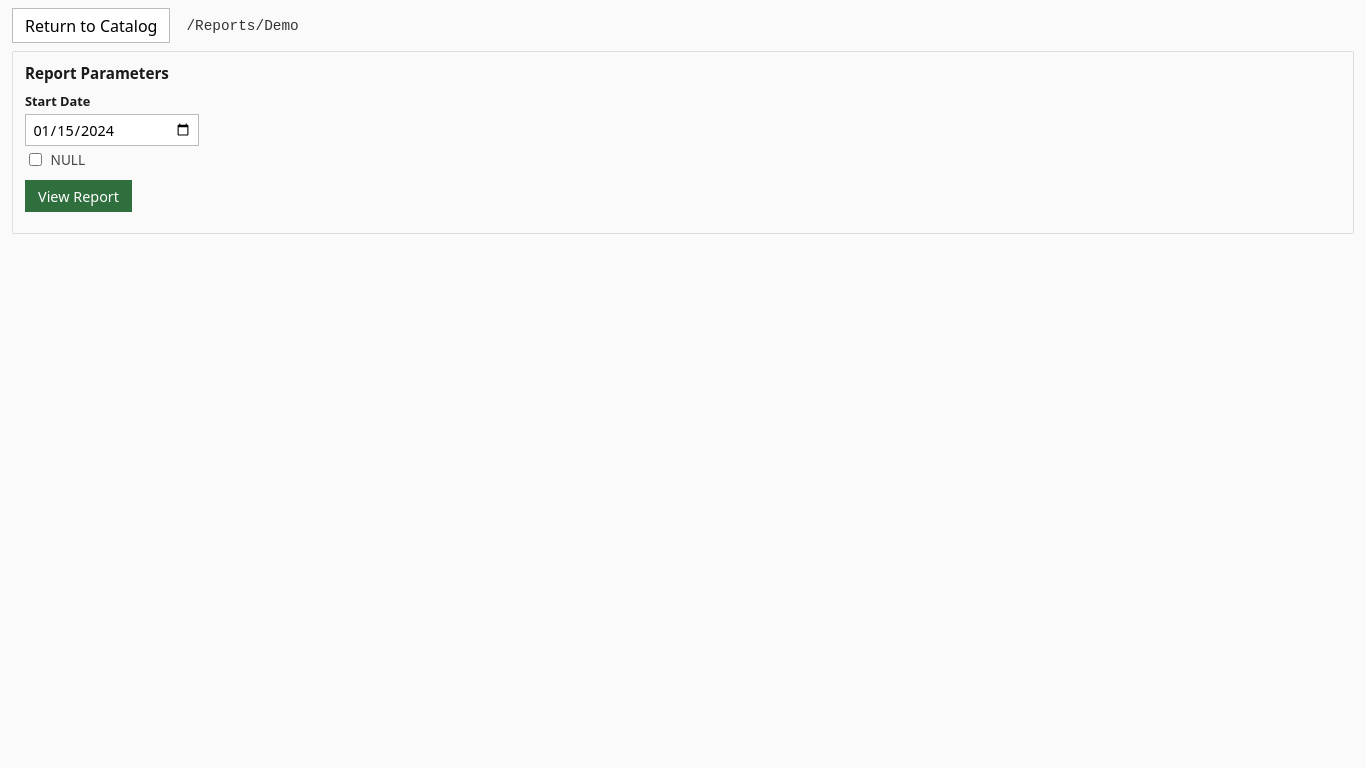
Test: API Availability mid-session › shows API unavailable with Retry, keeps report HTML, and leaves status visible in report mode
This screenshot has width=1366, height=768.
Step 1. Click the button "View Report" → (78,196), box [25, 180, 132, 212]
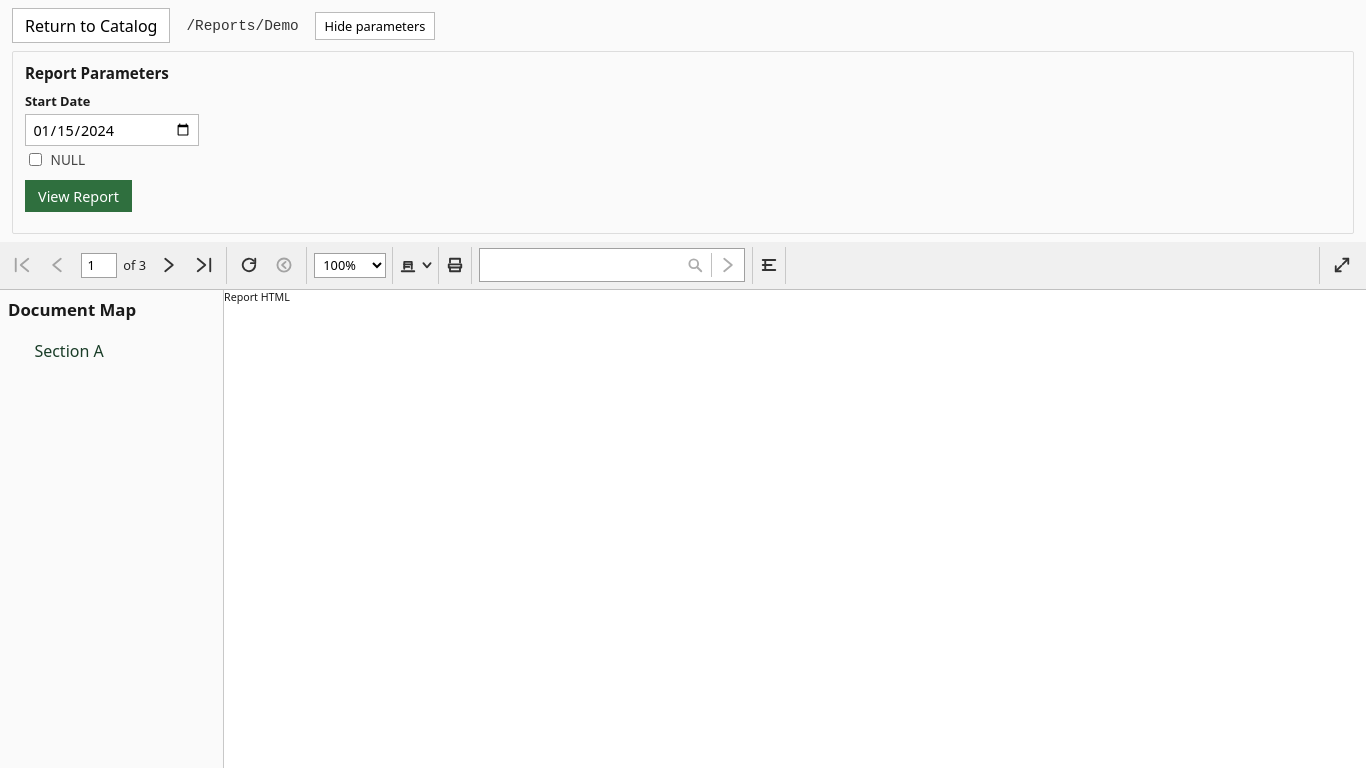
Expected: the element named "Report Viewer toolbar" is shown, [0, 242, 1365, 290]
Expected: the element with class "report-html" reads "Report HTML", [224, 290, 290, 304]
Step 2. Click the button "Section A" → (122,351), box [28, 334, 215, 368]
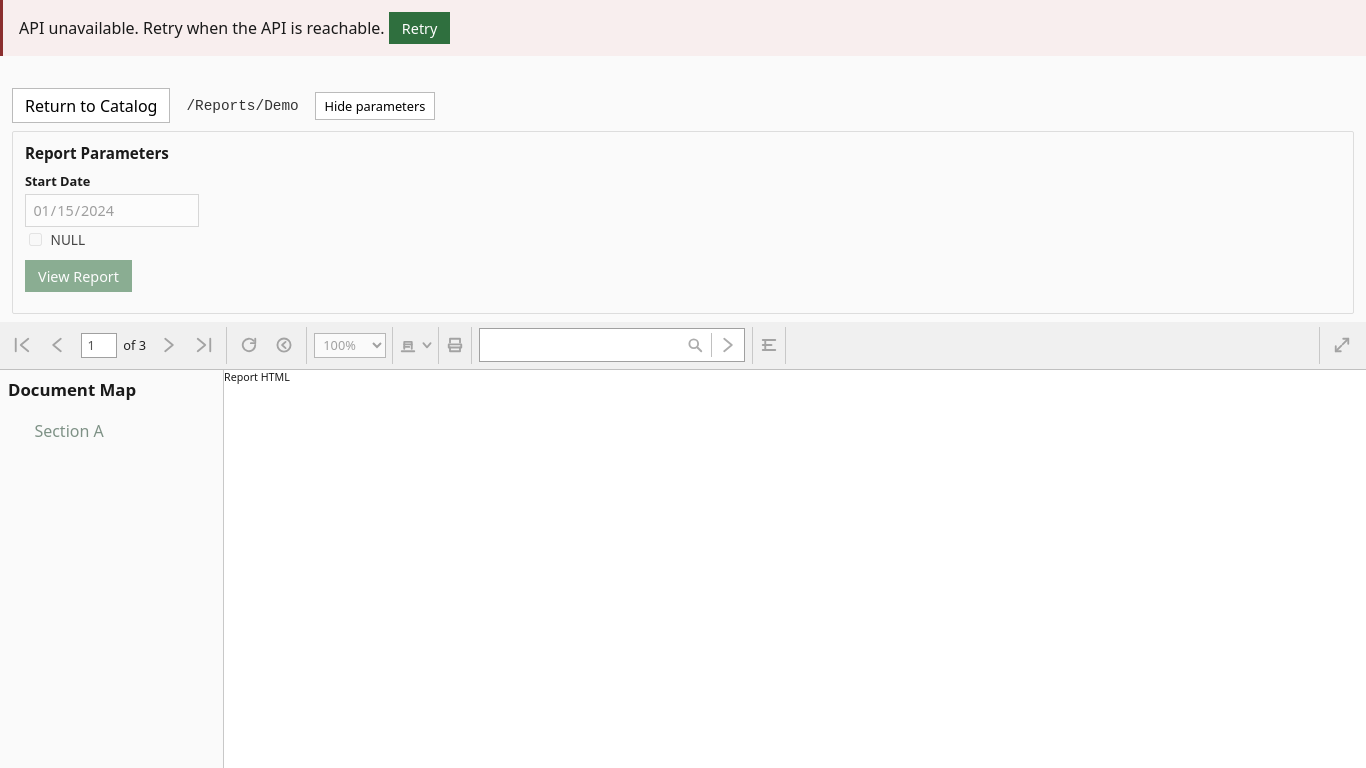
Expected: the element with class "report-html" reads "Report HTML", [224, 370, 290, 384]
Expected: the element named "Report Viewer toolbar" is shown, [0, 322, 1365, 370]
Expected: the message shows "API unavailable. Retry when the API is reachable.", [19, 17, 385, 39]
